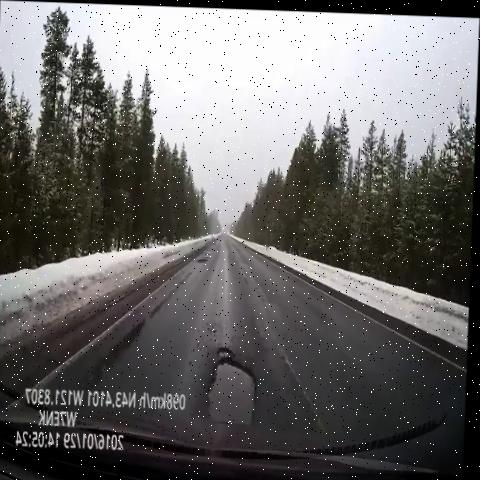pothole: (195, 331, 270, 433), (195, 246, 216, 271)
